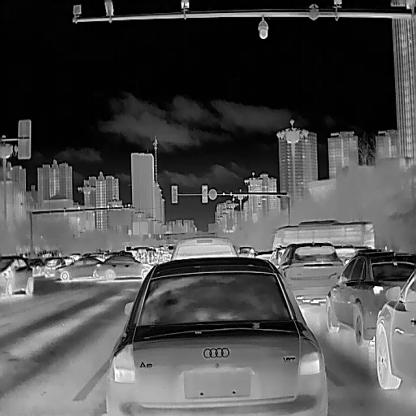bus: (270, 218, 374, 251)
car: (104, 255, 328, 415), (324, 252, 416, 344), (374, 268, 416, 388), (277, 241, 344, 303), (92, 252, 152, 280), (0, 254, 34, 294), (54, 255, 101, 281), (43, 257, 63, 277), (29, 258, 44, 277)
